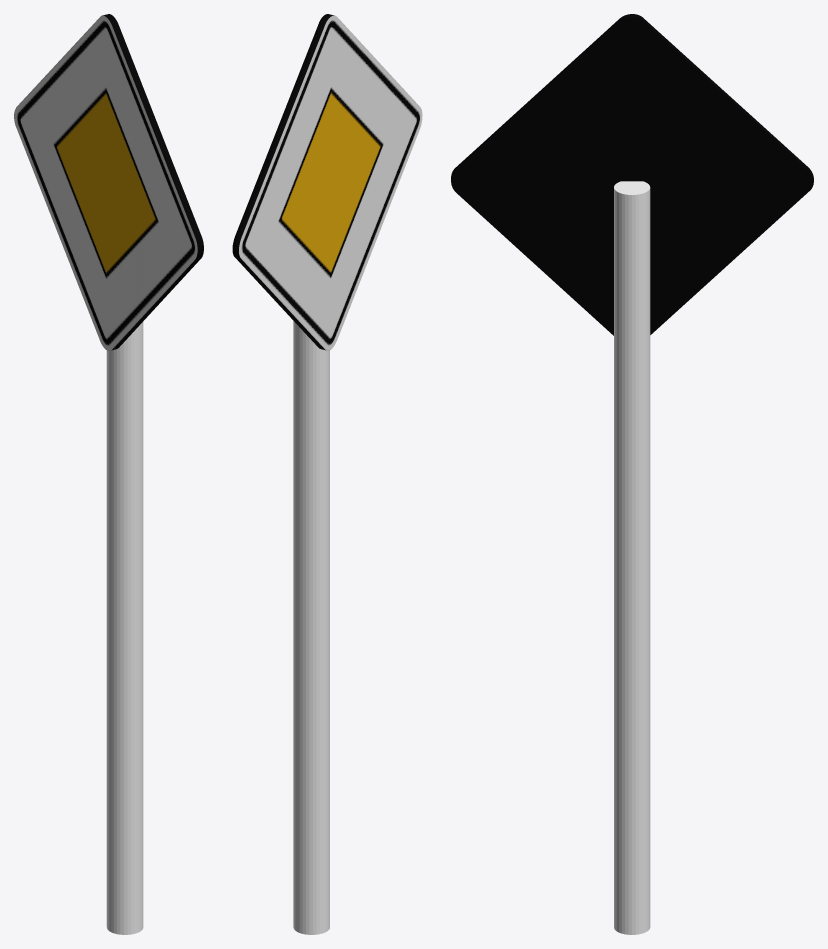
The model's file is priority_sign.dae.
The picture shows the model from 3 angles, left to right: view 1: azimuth 30°, elevation 25°; view 2: azimuth 150°, elevation 25°; view 3: azimuth 270°, elevation 25°; orthographic projection.
Parts seen in each view (by area): view 1: path3496, Cylinder; view 2: path3496, Cylinder; view 3: path3496, Cylinder.
Boxes of the visible parts, left/top/right/bottom form: path3496: left=14, top=14, right=203, bottom=350; Cylinder: left=106, top=322, right=143, bottom=934; path3496: left=232, top=14, right=422, bottom=350; Cylinder: left=293, top=321, right=329, bottom=934; path3496: left=451, top=14, right=813, bottom=335; Cylinder: left=614, top=181, right=650, bottom=934.
Bounding box in the file's own units: 0.011 × 0.1 × 0.2749.
Materials: 3 (2 with a texture image).
